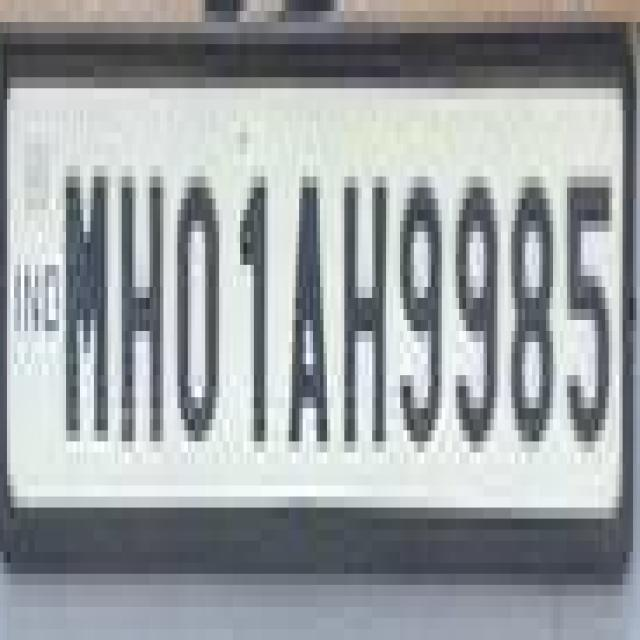license_plate: (0, 55, 609, 563)
